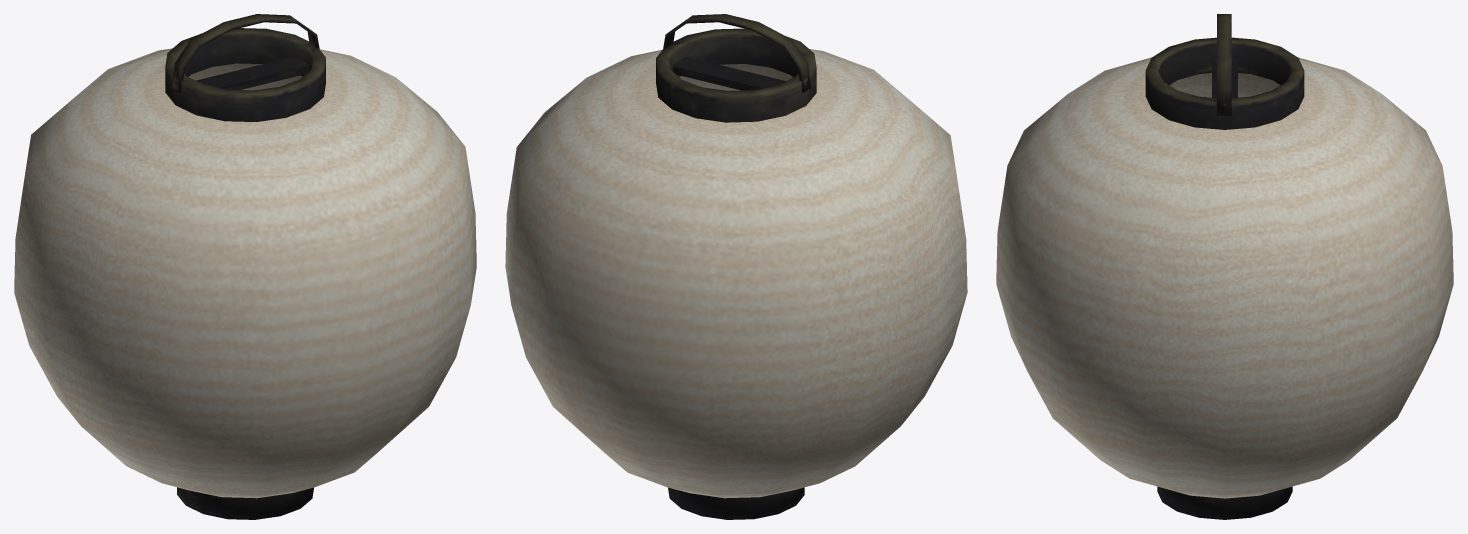
File: Lamp_Chouchin_04.fbx
3 renders of one model, left to right at view 1: azimuth 30°, elevation 25°; view 2: azimuth 150°, elevation 25°; view 3: azimuth 270°, elevation 25°, orthographic.
Parts seen in each view (by area): view 1: Lamp_Chouchin_04_LOD0, Lamp_Chouchin_04; view 2: Lamp_Chouchin_04, Lamp_Chouchin_04_LOD0; view 3: Lamp_Chouchin_04, Lamp_Chouchin_04_LOD0.
Part boxes in pixels (x1,y1,x2,y2): Lamp_Chouchin_04_LOD0: [30, 15, 476, 519]; Lamp_Chouchin_04: [14, 14, 457, 504]; Lamp_Chouchin_04: [505, 14, 967, 519]; Lamp_Chouchin_04_LOD0: [557, 14, 959, 505]; Lamp_Chouchin_04: [1049, 14, 1453, 519]; Lamp_Chouchin_04_LOD0: [996, 14, 1453, 519].
Size of what is drawn, in the model's own units: 0.3187 by 0.3549 by 0.3187.
